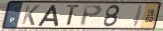8: (102, 4, 121, 28)
A: (37, 5, 60, 27)
I: (131, 3, 145, 29)
K: (20, 4, 41, 27)
P: (79, 4, 104, 28)
T: (65, 4, 82, 27)
